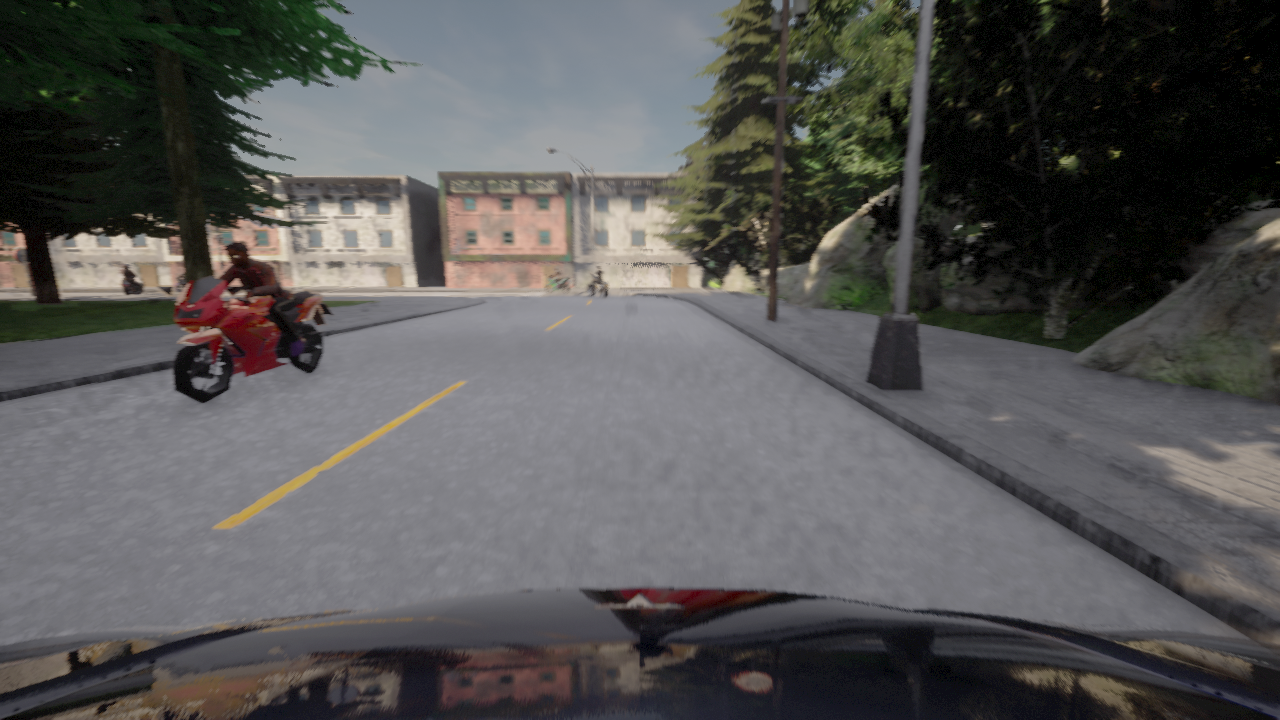cyclist: (0, 588, 1279, 719), (156, 277, 333, 404), (586, 272, 609, 297), (545, 274, 571, 293), (120, 275, 142, 295), (175, 273, 186, 292)
